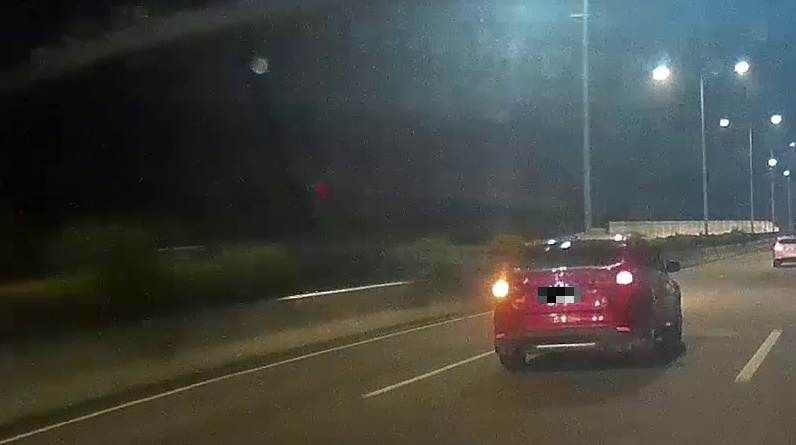L_light: (493, 278, 510, 298)
R_light: (615, 270, 633, 284)
T_light: (560, 241, 589, 246)
night-left: (491, 234, 636, 369)
plate_1: (538, 287, 581, 303)
